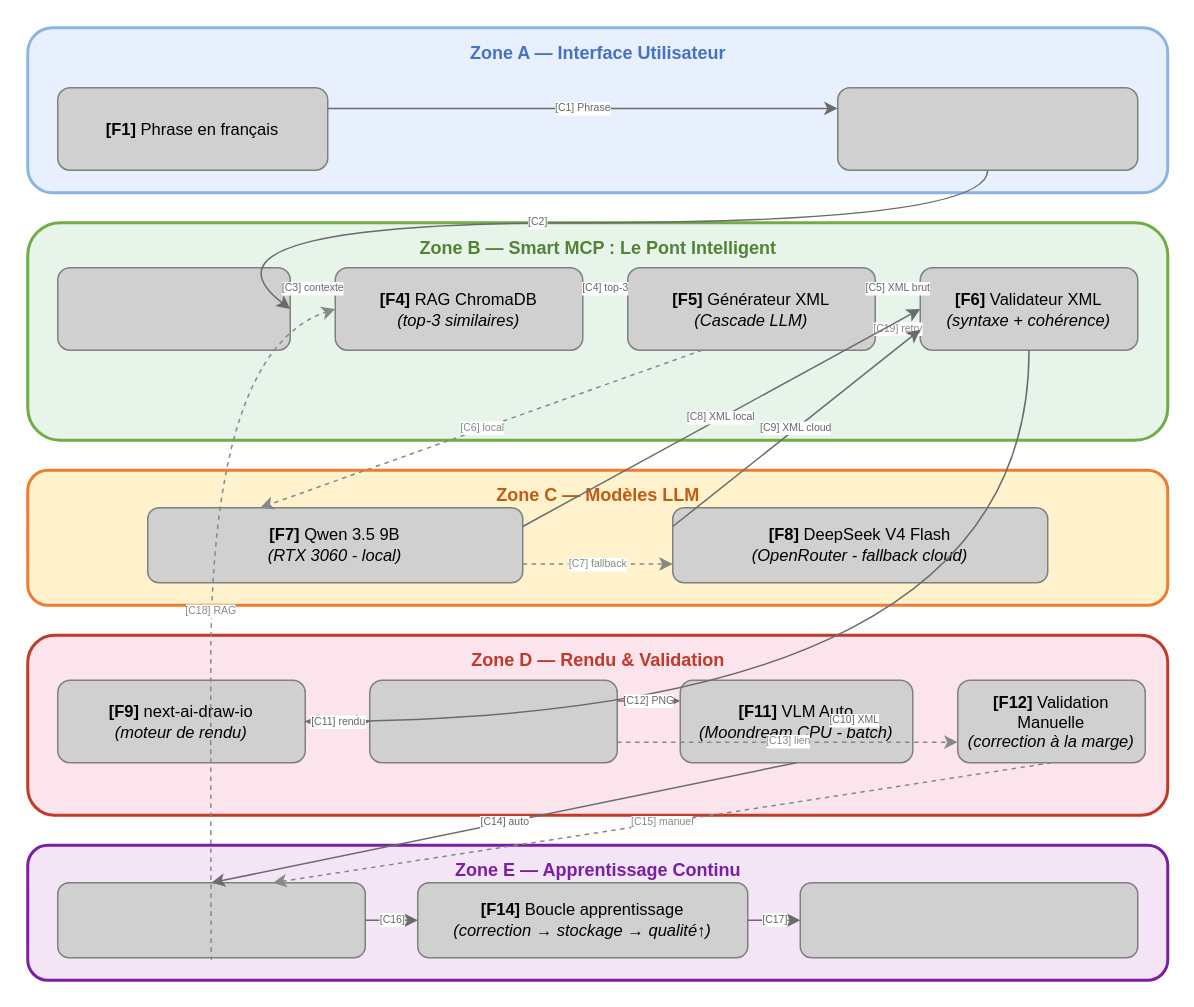
Some shapes in this 1194 by 1007 pixel diagram are drawn without their labels. Each missing label, with the box of its shape:
[F10] Diagramme draw.io: (368, 679, 617, 763)
[F13] ChromaDB (vector store ~ mémoire): (56, 881, 365, 958)
[F15] Évolution progressive (basique → complexe, itératif): (799, 881, 1138, 958)
[F2] Hermes Agent + Skills / Tools: (836, 86, 1138, 170)
[F3] Classifieur (type de requête): (56, 266, 290, 350)
